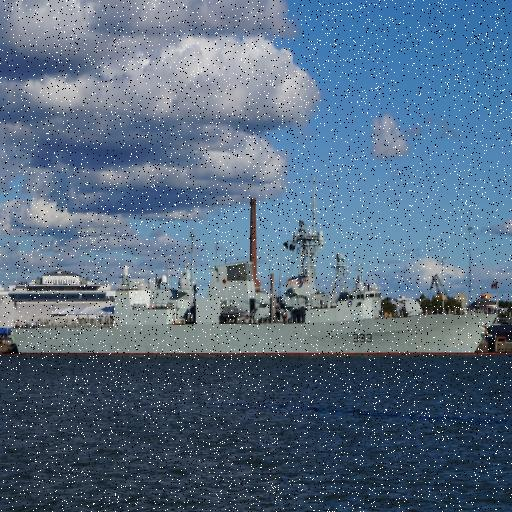Fragata: (7, 196, 499, 363)
